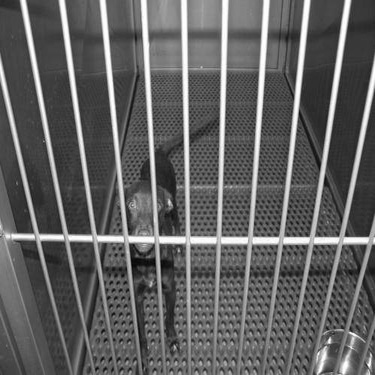dog: (110, 104, 230, 370)
